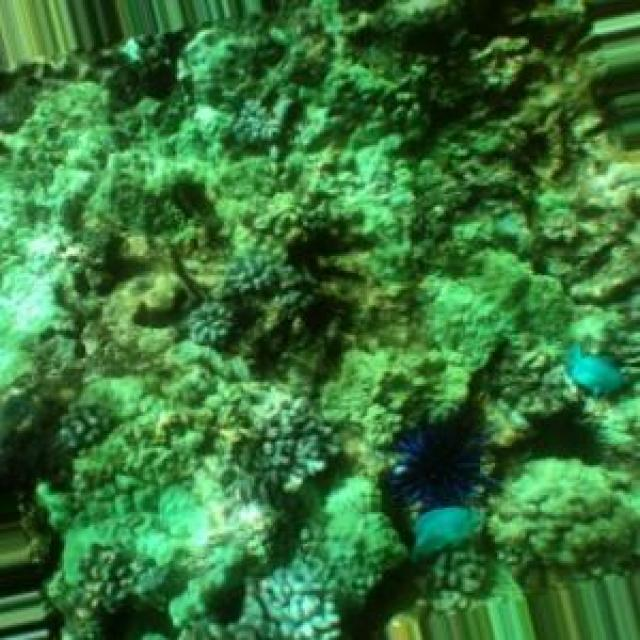Healthy: (1, 1, 640, 640)
